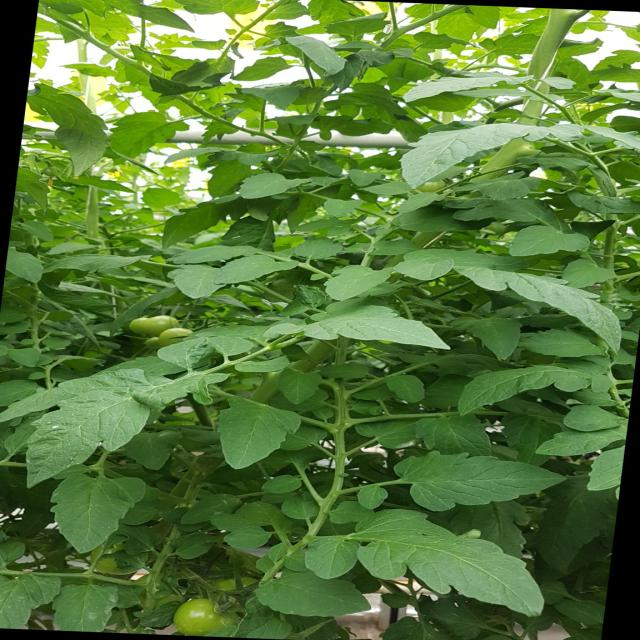Healthy Leaf: (325, 498, 571, 624), (457, 256, 640, 351), (368, 121, 548, 191), (388, 448, 574, 514), (16, 394, 145, 483), (283, 300, 463, 359), (49, 459, 154, 559), (205, 392, 314, 478)
